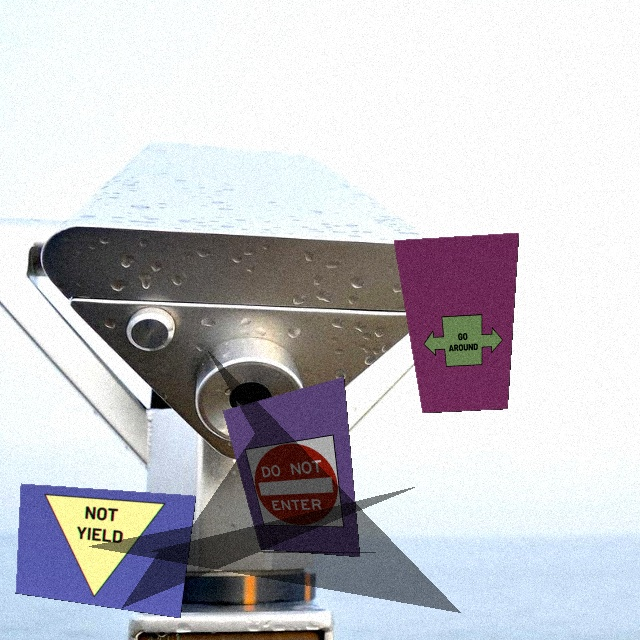DO_NOT_ENTER: (245, 429, 356, 545)
GO_AROUND: (420, 310, 510, 371)
NOT_YIELD: (39, 491, 166, 606)
